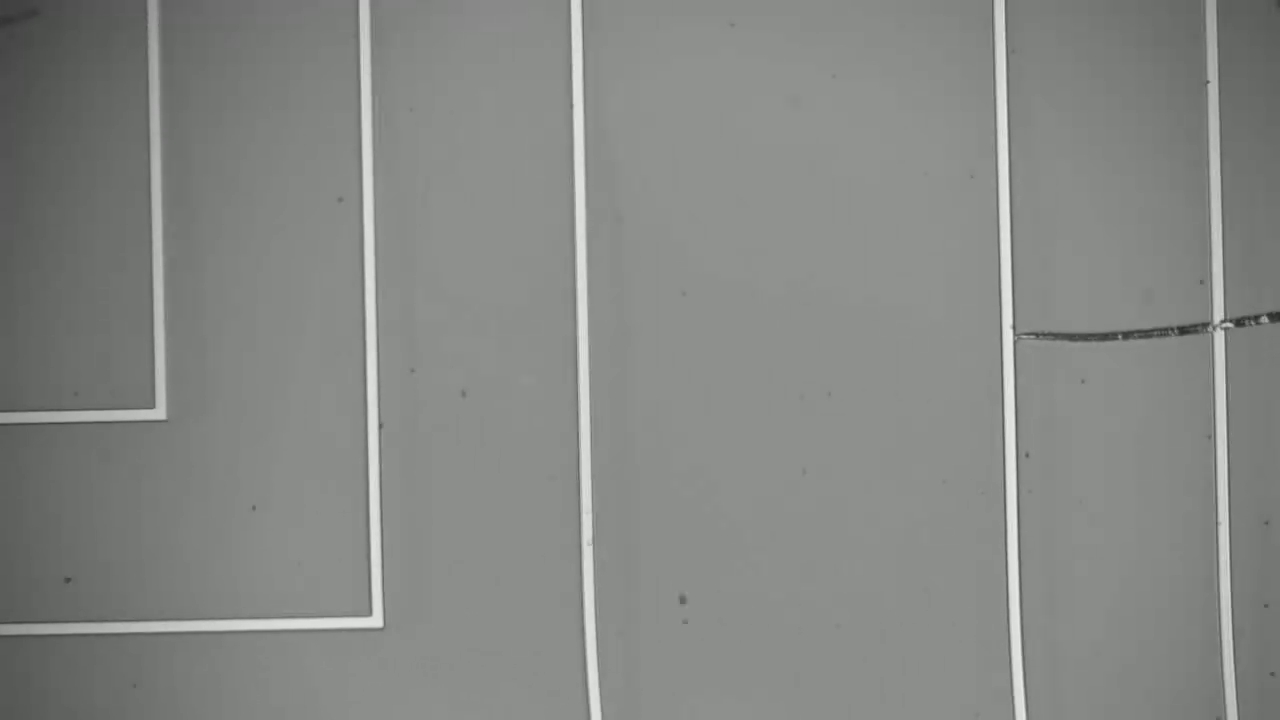scratch: (1018, 298, 1275, 354)
